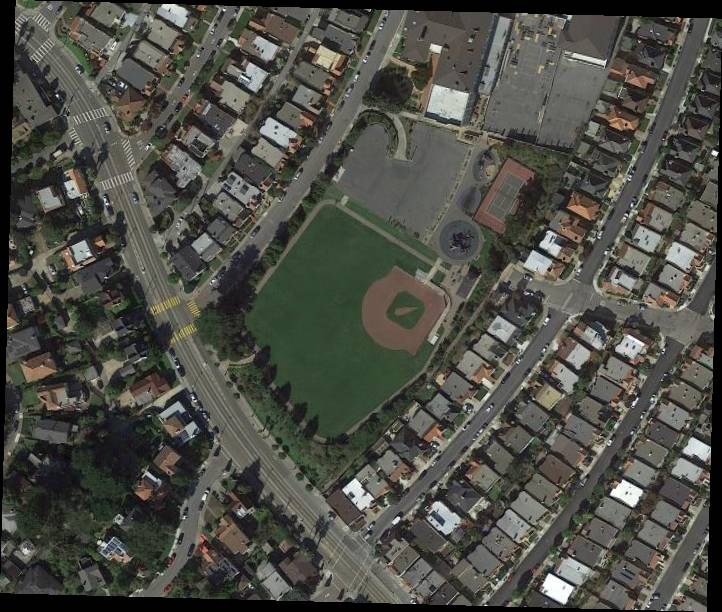baseball diamond: (343, 258, 449, 363)
tennis court: (486, 173, 527, 223)
